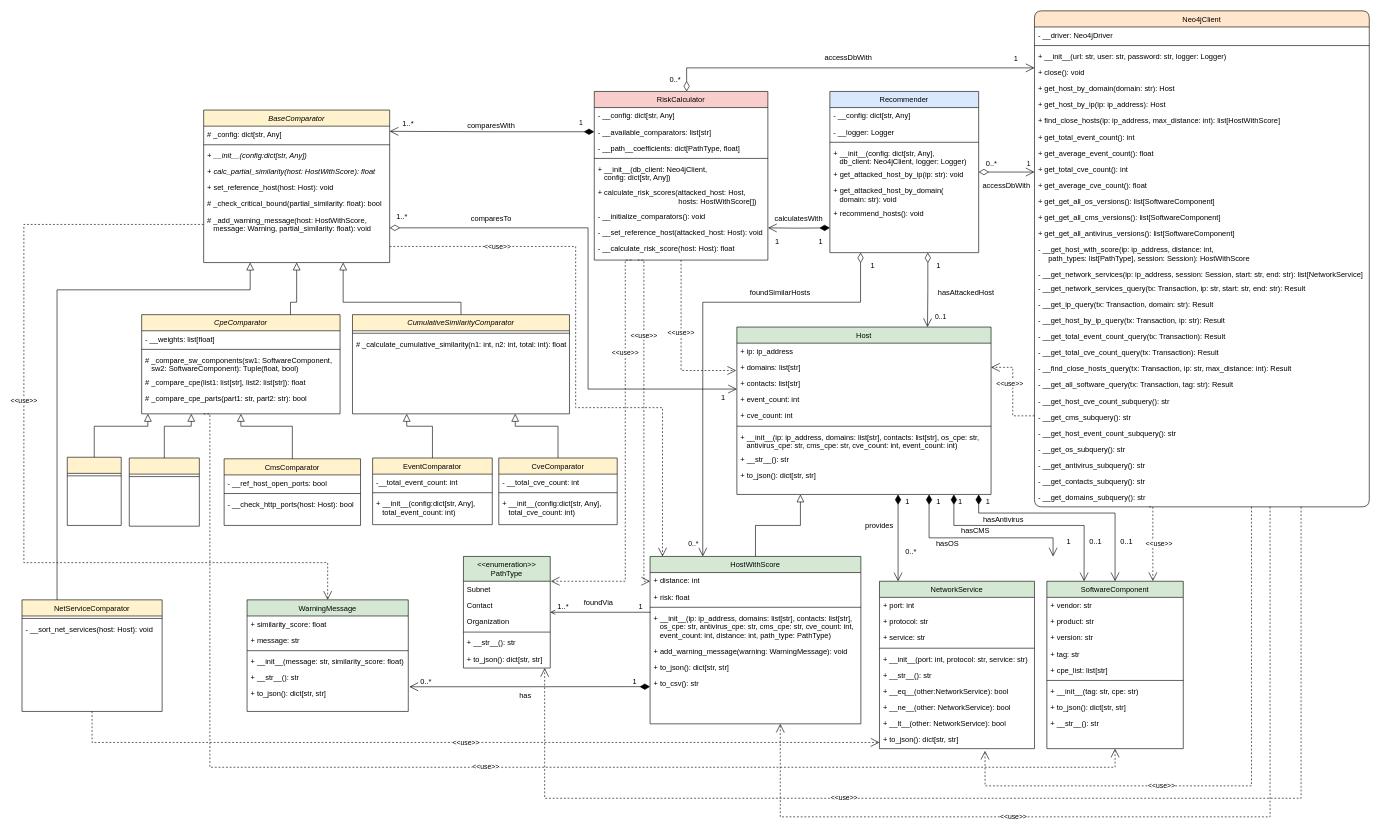
The diagram is 1380 pixels wide and 836 high, and some of its shapes have lost their labels. The centre of each missing label's shape, as x and y in pixels:
"AntivirusComparator" goes at [164,491].
"OsComparator" goes at [94,491].
